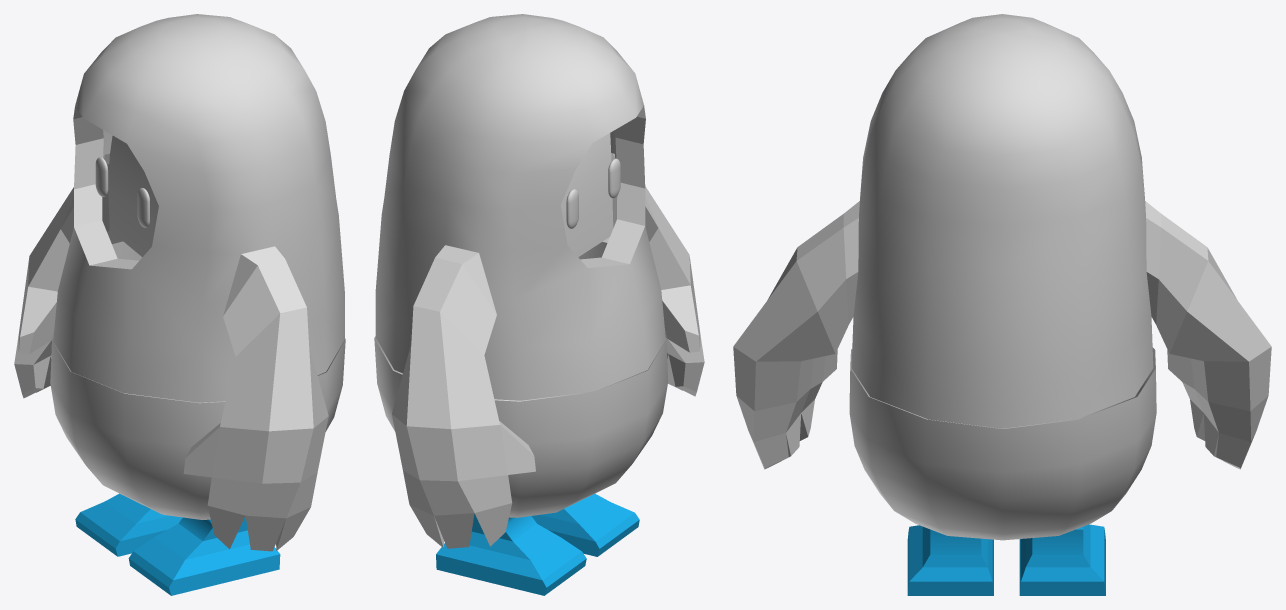
The model's file is Fall_1.fbx.
3 renders of one model, left to right at view 1: azimuth 30°, elevation 25°; view 2: azimuth 150°, elevation 25°; view 3: azimuth 270°, elevation 25°, orthographic. The views are drawn at different scales.
Visible parts, largest first — view 1: Capsule005, 对象001, Box001, Line001, Box002, Capsule002, Capsule003; view 2: Capsule005, 对象001, Box002, Line001, Box001, Capsule003, Capsule002; view 3: Capsule005, 对象001, Box002, Box001.
Boxes of the visible parts, x1,y1,x2,y2 form: Capsule005: (14,14,344,551); 对象001: (50,338,345,519); Box001: (128,516,280,595); Line001: (108,136,158,256); Box002: (75,493,182,556); Capsule002: (95,157,108,196); Capsule003: (137,188,149,227); Capsule005: (375,14,704,548); 对象001: (374,336,668,517); Box002: (436,513,586,595); Line001: (560,133,613,257); Box001: (531,493,639,556); Capsule003: (608,158,620,198); Capsule002: (566,189,578,228); Capsule005: (733,14,1271,469); 对象001: (849,347,1156,540); Box002: (1019,524,1105,595); Box001: (907,525,993,595).
Size of the model in its own units: 128 by 248 by 223.
